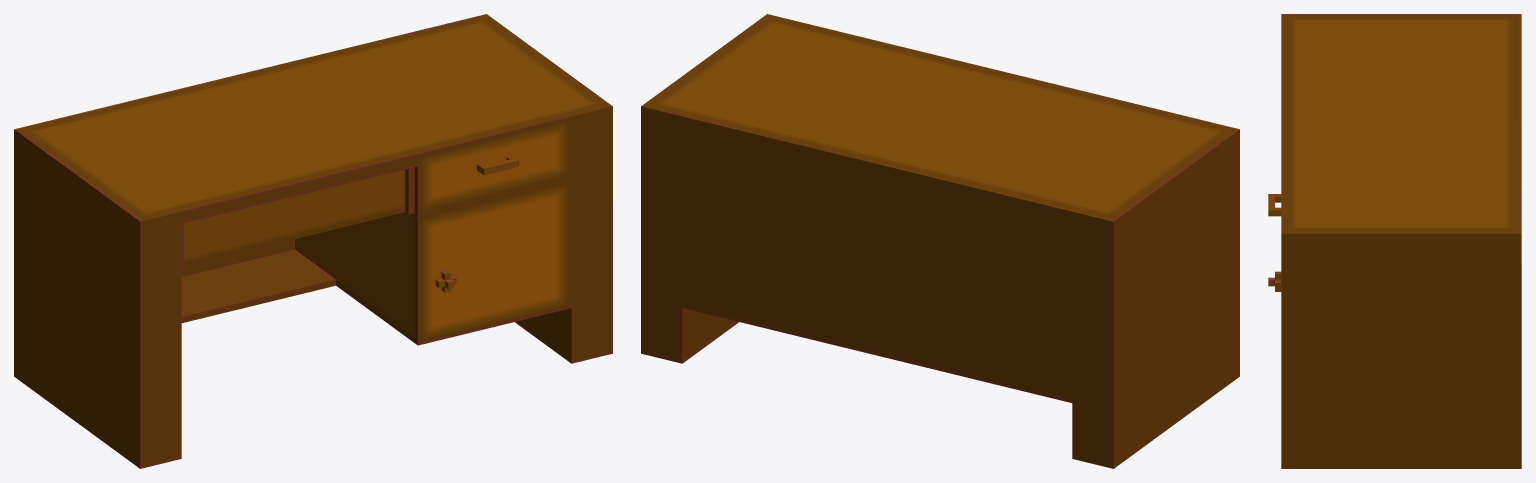
File: desk_6.obj
The picture shows the model from 3 angles, left to right: view 1: azimuth 30°, elevation 25°; view 2: azimuth 150°, elevation 25°; view 3: azimuth 270°, elevation 25°; orthographic projection. The views are drawn at different scales.
Visible parts, largest first — view 1: desk_6; view 2: desk_6; view 3: desk_6.
Boxes of the visible parts, x1,y1,x2,y2 form: desk_6: [14, 14, 612, 468]; desk_6: [641, 14, 1239, 468]; desk_6: [1268, 14, 1521, 468].
Size of the model in its own units: 8 by 4 by 3.9.
Materials: 1 (1 with a texture image).
